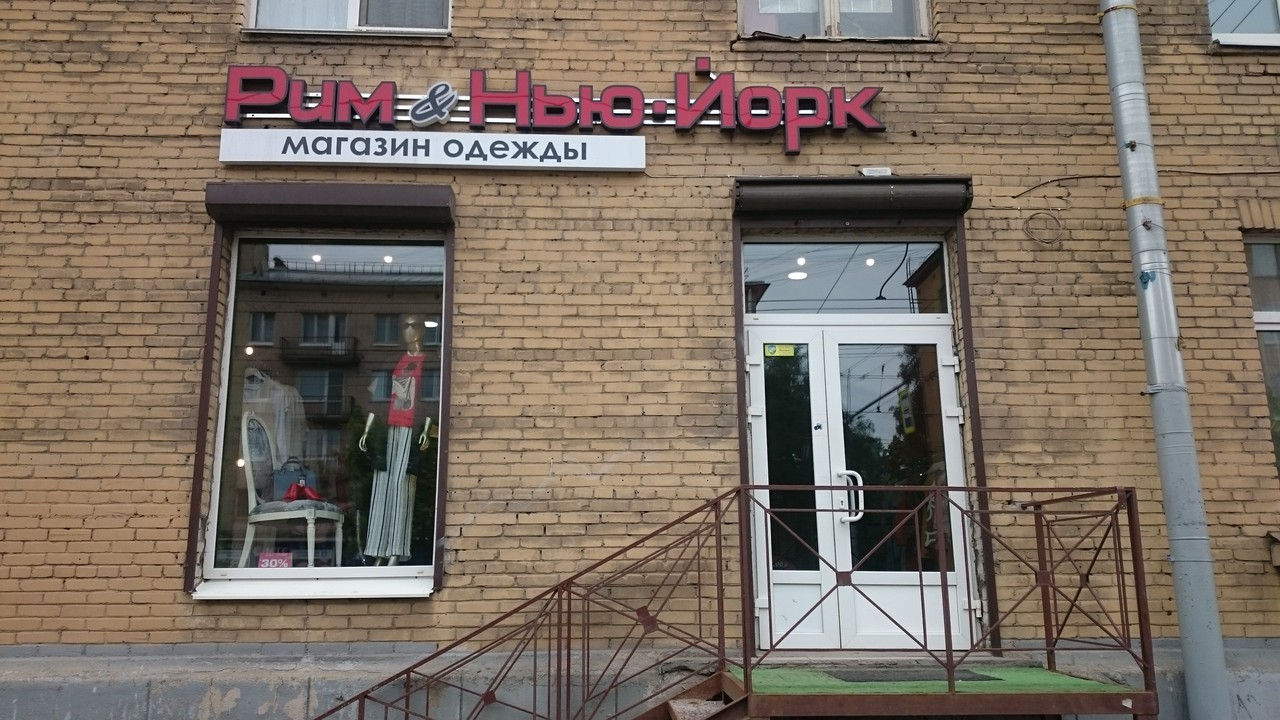door: (820, 326, 970, 650)
signboard: (220, 55, 883, 169)
window: (221, 232, 438, 575), (744, 242, 949, 312)
